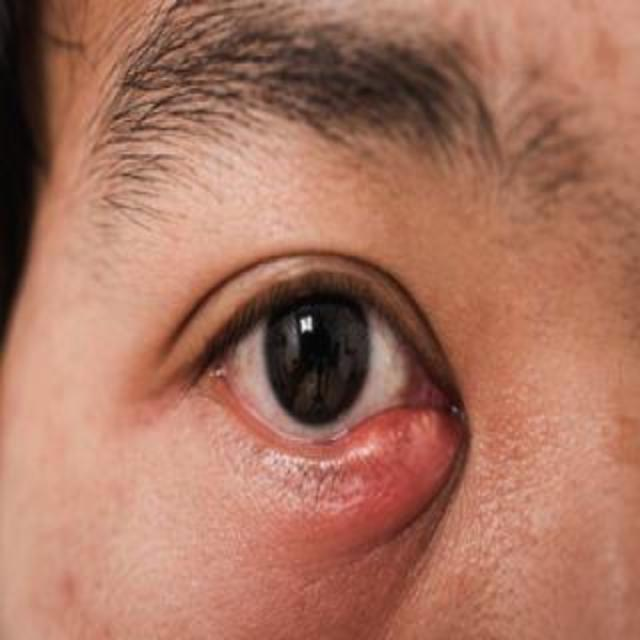Stye: (287, 397, 470, 540)
